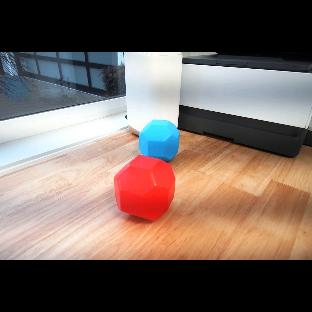V5_BLUE: (138, 118, 180, 159)
V5_RED: (115, 157, 175, 221)
pieces: (114, 113, 182, 227)
